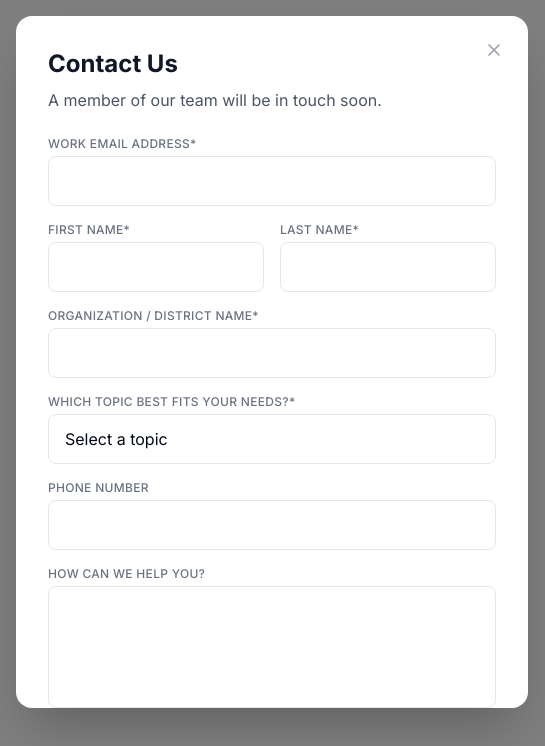
Test: ContactModal › form submission › should show error message on failed submission
This screenshot has width=545, height=746.
Fill required fields
Type "test@example.com" into the field labelled "Work Email Address*" at (272, 181), box x1=48 y1=156 x2=496 y2=206
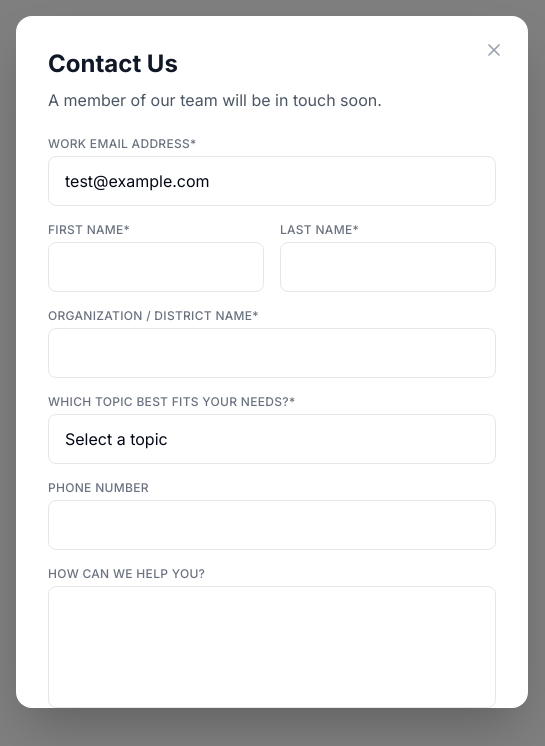
Type "John" into the field labelled "First Name*" at (156, 267), box x1=48 y1=242 x2=264 y2=292
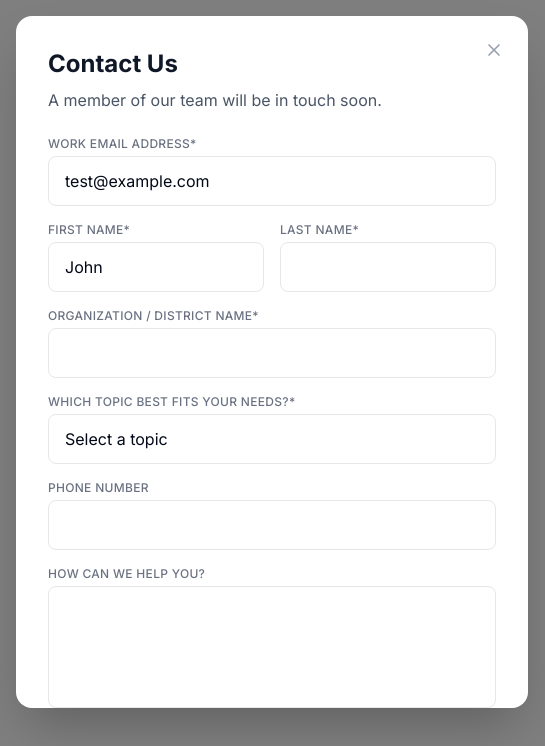
Type "Doe" into the field labelled "Last Name*" at (388, 267), box x1=280 y1=242 x2=496 y2=292
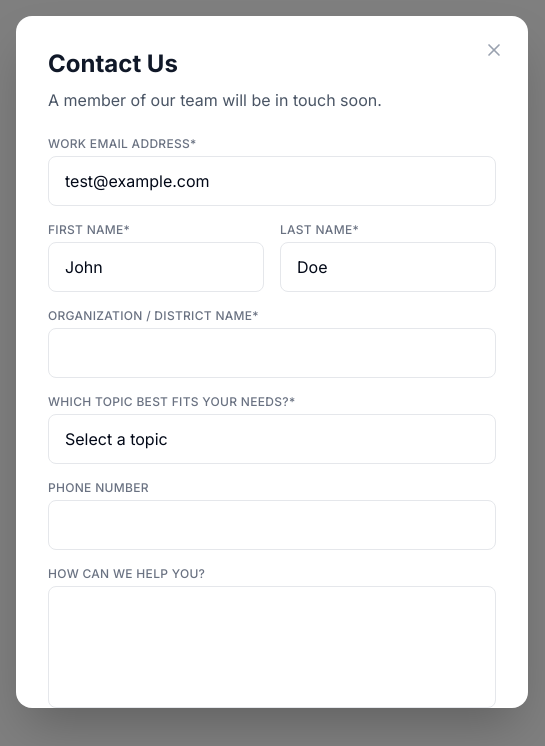
Type "Test District" into the field labelled "Organization / District Name*" at (272, 353), box x1=48 y1=328 x2=496 y2=378
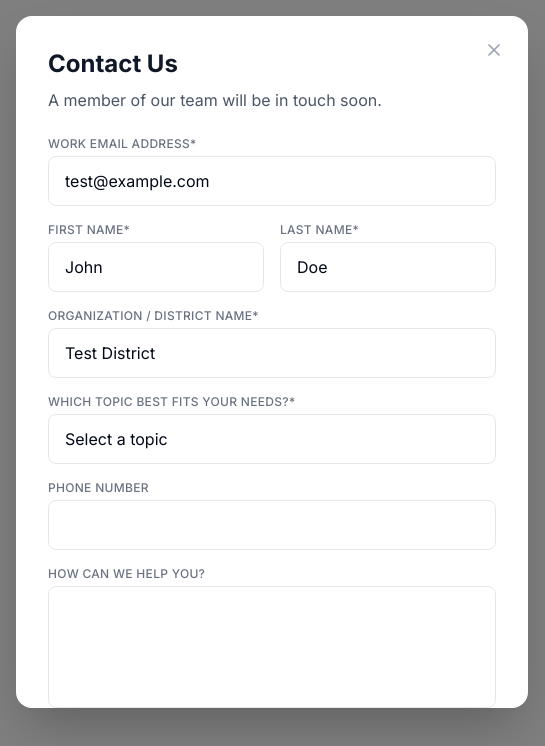
Select "Schedule a demo" in the dropdown labelled "Which topic best fits your needs?*" at (272, 439), box x1=48 y1=414 x2=496 y2=464
(page scrolled)
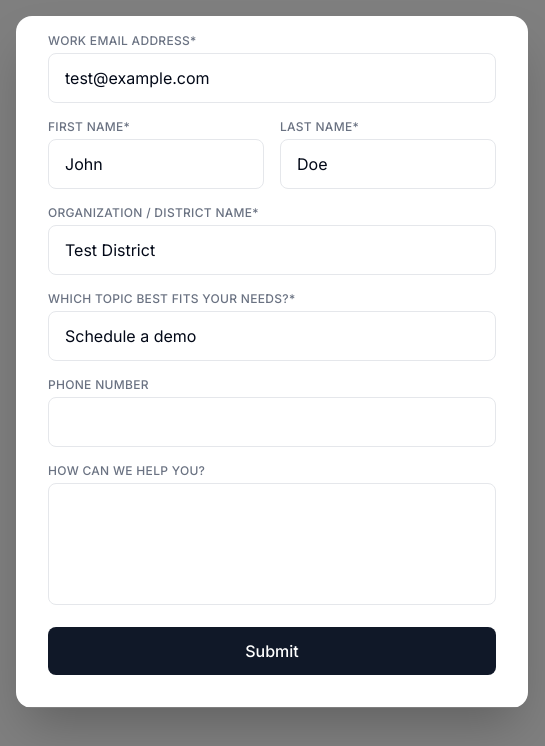
Click the button "Submit" at (272, 651), box x1=48 y1=627 x2=496 y2=675
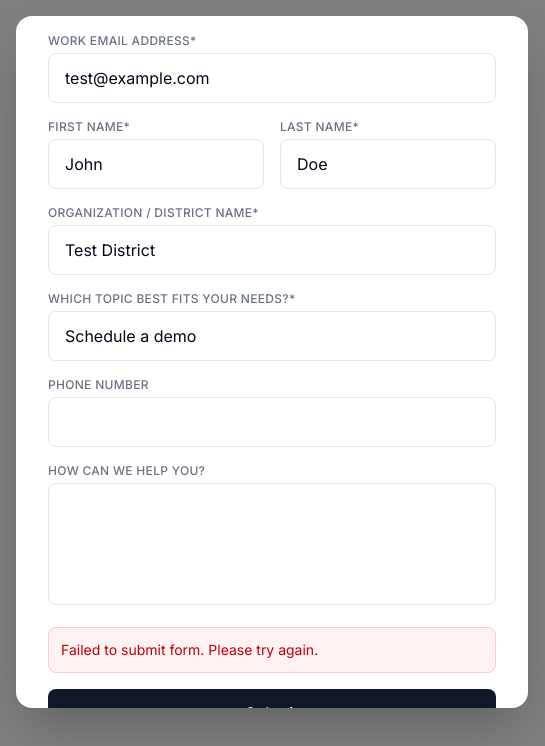
Now the text "Failed to submit form. Please try again." is shown, box x1=48 y1=627 x2=496 y2=673
